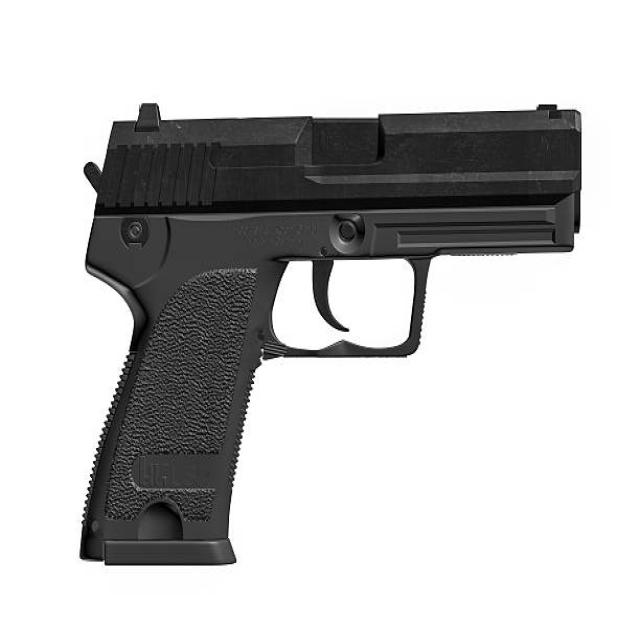pistol: (71, 87, 595, 580)
